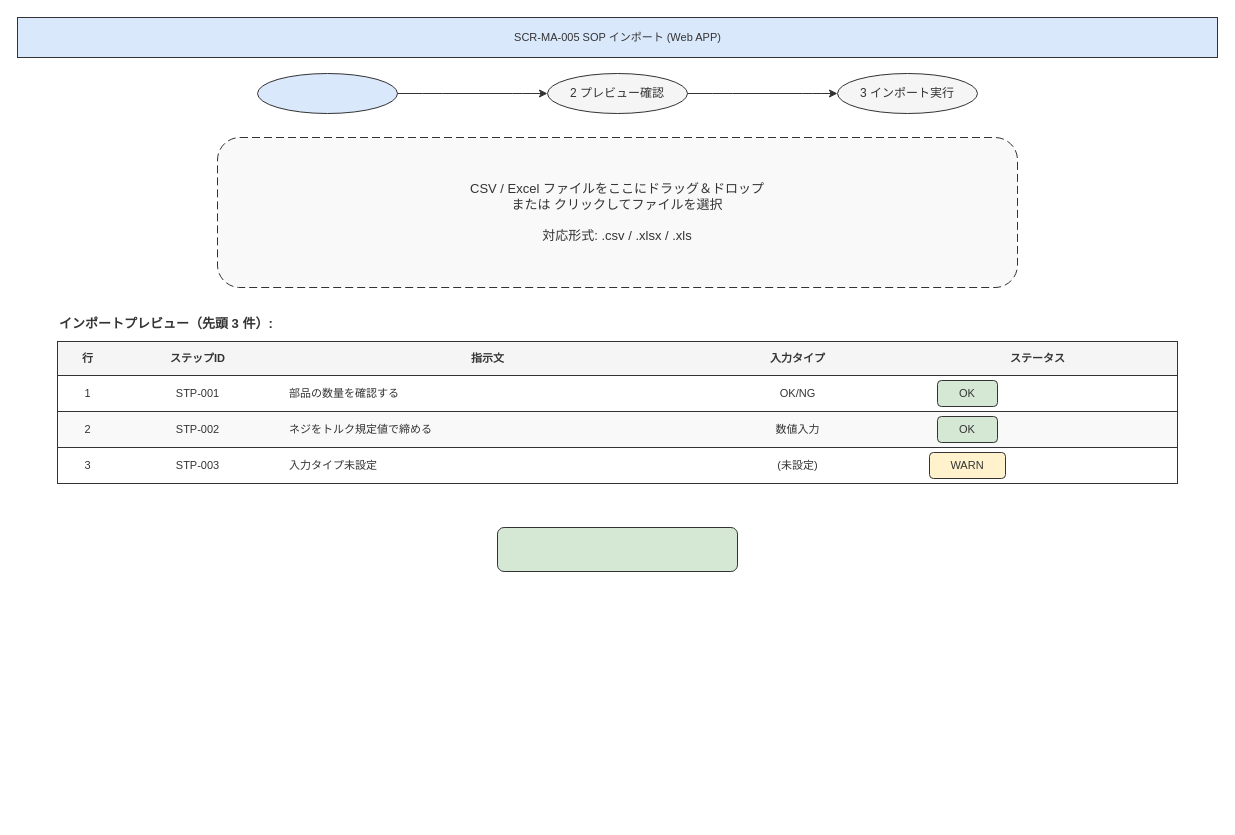
The diagram is 1235 pixels wide and 835 high, and some of its shapes have lost their labels. Here are the shapes that lost their labels. From the top down, the box of each, then its label:
(16, 16, 1218, 58): マスタメンテ APP | SOP インポート
(256, 72, 398, 114): 1 ファイル選択
(496, 526, 738, 572): インポート確定
